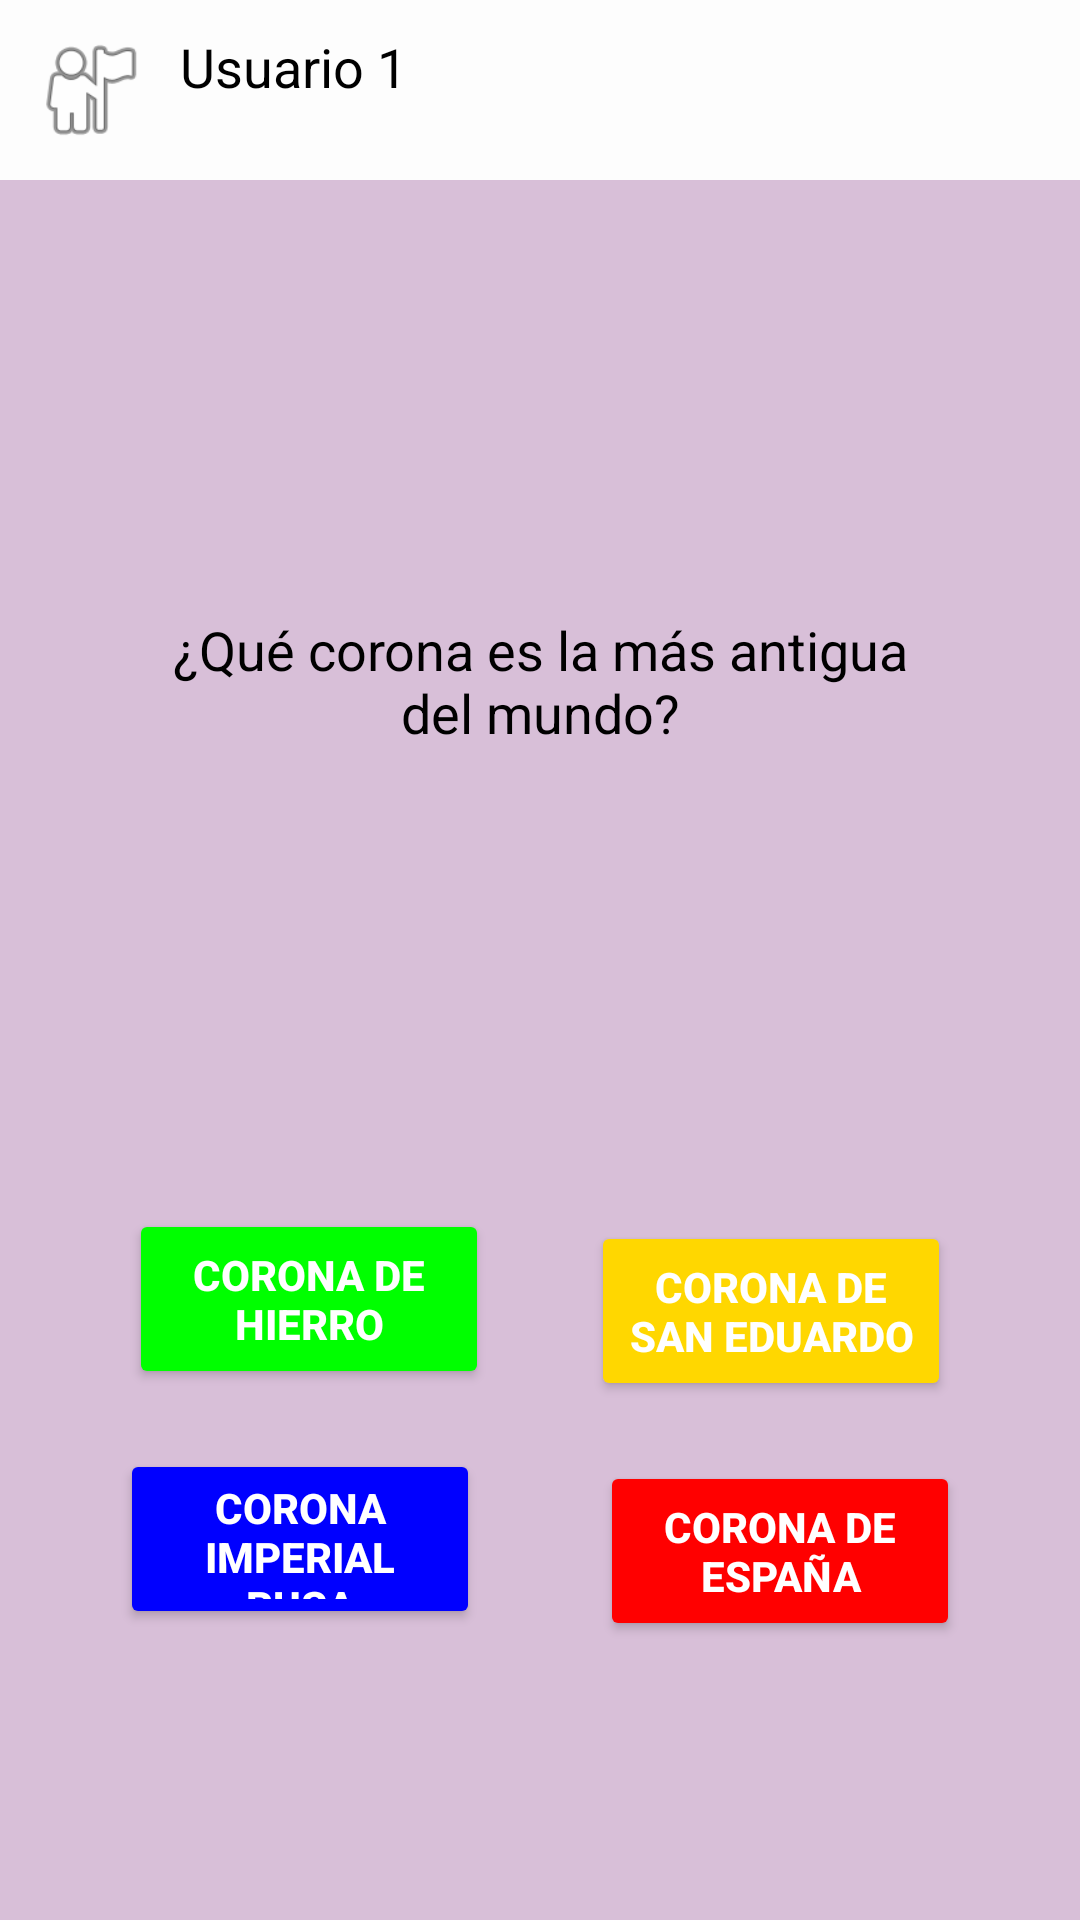

Icon bounding boxes for this 1080×1920 phone screenshot, format (x1, y1, x2, y2):
Ícono de usuario: (46, 45, 136, 135)
